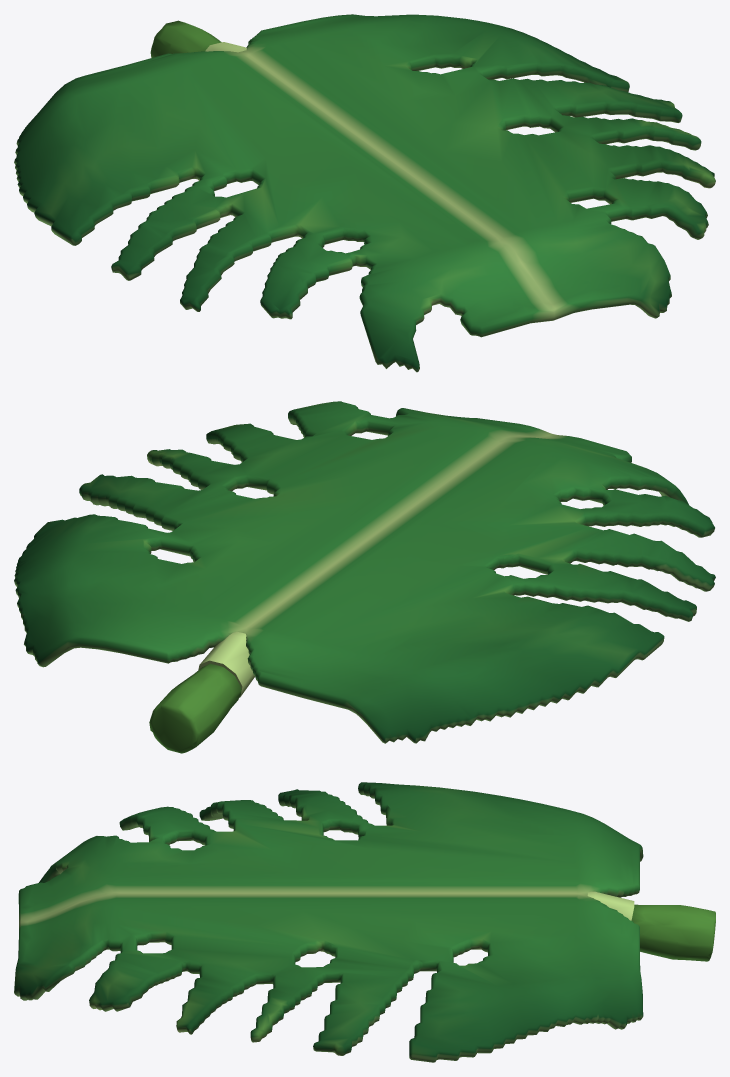
Rendered from canopy_monstera_leaf.glb.
3 views of the same model, one above another, from view 1: azimuth 30°, elevation 25°; view 2: azimuth 150°, elevation 25°; view 3: azimuth 270°, elevation 25° (orthographic). The views are drawn at different scales.
Visible parts, largest first — view 1: canopy_monstera_leaf; view 2: canopy_monstera_leaf; view 3: canopy_monstera_leaf.
Part boxes in pixels (x1,y1,x2,y2): canopy_monstera_leaf: (14, 14, 715, 372); canopy_monstera_leaf: (14, 401, 715, 753); canopy_monstera_leaf: (14, 782, 715, 1062).
Bounding box in the file's own units: 11.03 × 1.33 × 12.43.
